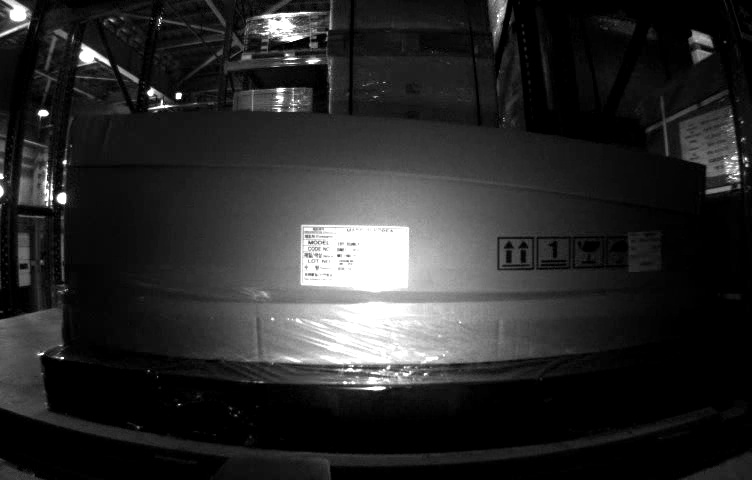True Barcode: (626, 232, 664, 273)
